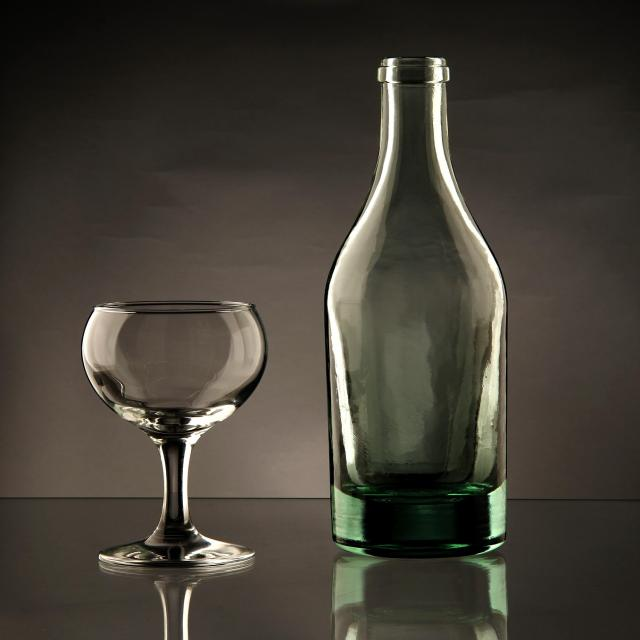Bottle: (326, 58, 505, 557), (333, 552, 507, 639)
